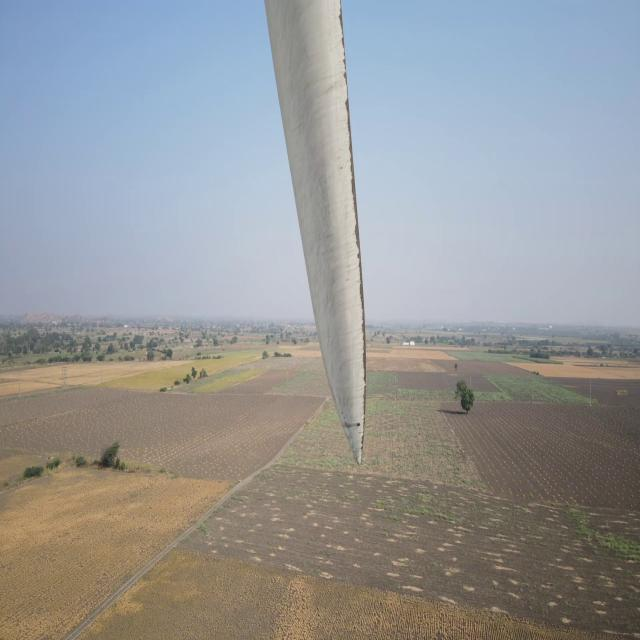Dirt: (260, 0, 371, 463)
Pin Hole: (342, 417, 364, 433)
